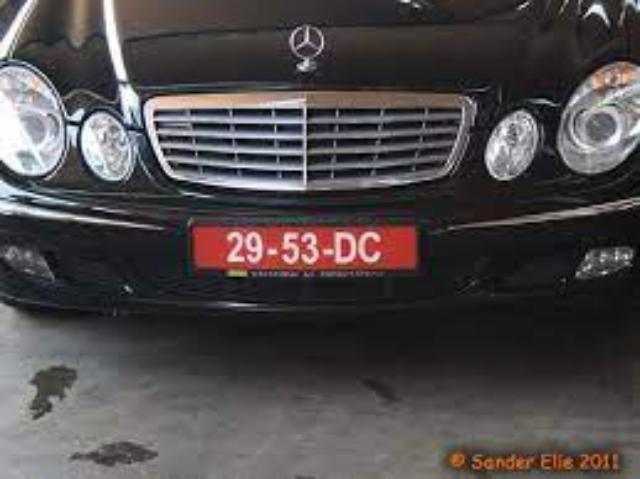License_Plate: (187, 220, 426, 283)
car: (1, 1, 640, 335)
